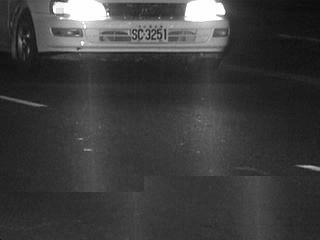plate: (129, 21, 171, 44)
